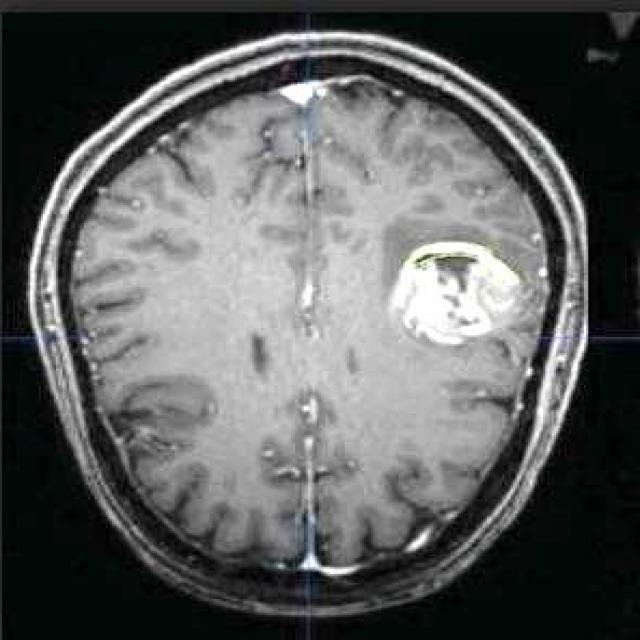tumor: (388, 239, 543, 353)
